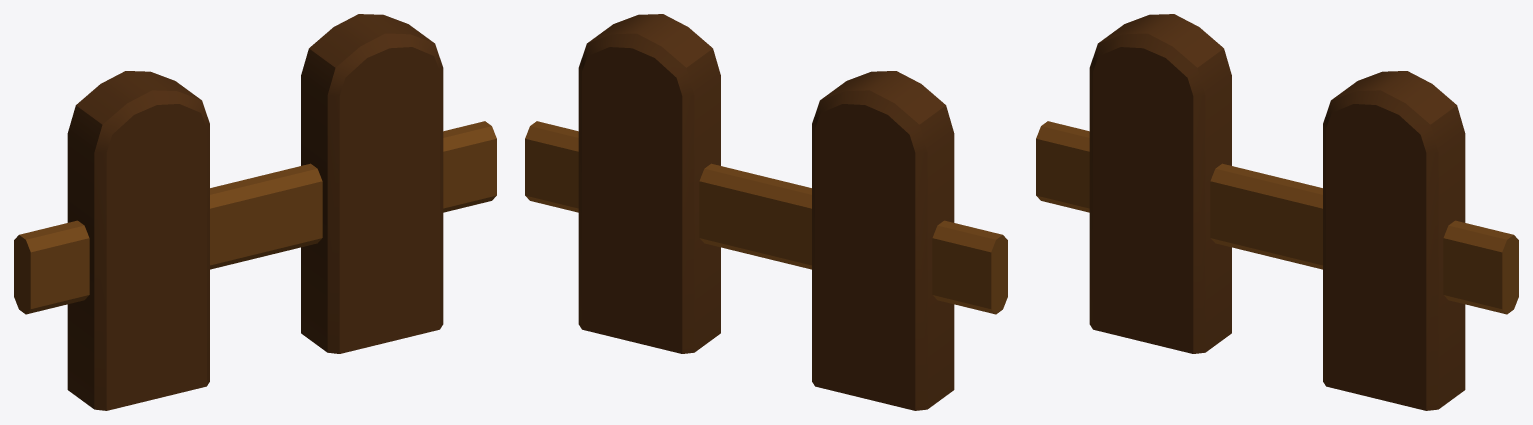
The model's file is Fence_Middle.obj.
The picture shows the model from 3 angles, left to right: view 1: azimuth 30°, elevation 25°; view 2: azimuth 150°, elevation 25°; view 3: azimuth 330°, elevation 25°; orthographic projection.
Visible parts, largest first — view 1: Fence_Middle_Cube.187; view 2: Fence_Middle_Cube.187; view 3: Fence_Middle_Cube.187.
Boxes of the visible parts, bbox=[...] form: Fence_Middle_Cube.187: bbox=[14, 14, 496, 410]; Fence_Middle_Cube.187: bbox=[525, 14, 1007, 410]; Fence_Middle_Cube.187: bbox=[1036, 14, 1518, 410].
Bounding box in the file's own units: 2 × 1.25 × 0.2644.
